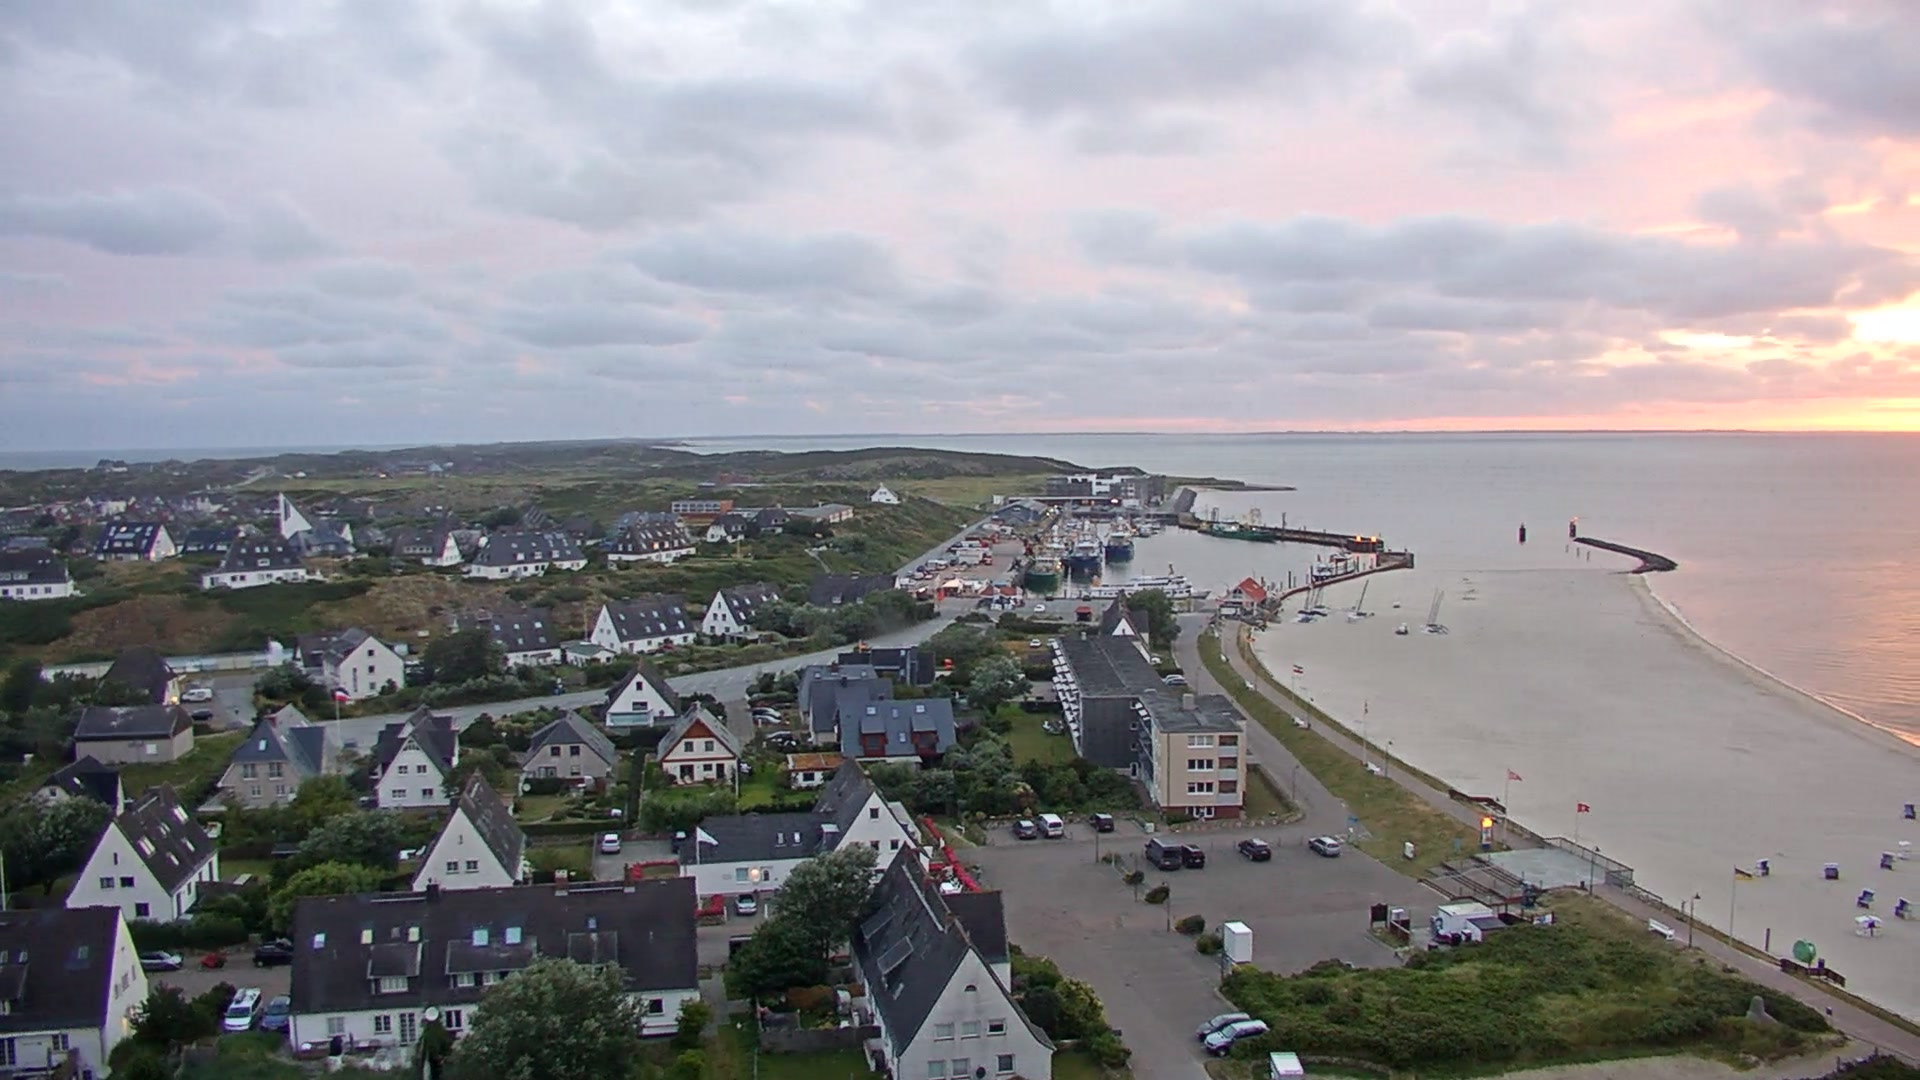land: (1204, 1018, 1269, 1058), (222, 986, 262, 1033), (1193, 1011, 1250, 1042), (1145, 836, 1182, 872), (260, 992, 291, 1033), (249, 943, 293, 967), (137, 949, 182, 971), (1237, 837, 1271, 861), (1308, 833, 1340, 856), (1036, 814, 1063, 839), (1182, 843, 1207, 869), (733, 891, 756, 915), (1088, 812, 1114, 832), (1011, 820, 1038, 840), (179, 687, 211, 702), (601, 832, 621, 853), (671, 831, 686, 855), (752, 705, 781, 717), (189, 707, 214, 720), (753, 715, 781, 727), (765, 731, 793, 741), (1160, 673, 1183, 682), (1168, 676, 1185, 684), (1033, 604, 1044, 613), (1029, 640, 1042, 647), (1044, 593, 1054, 601), (1083, 595, 1091, 603)
sea: (1084, 560, 1212, 599), (1211, 516, 1278, 541), (1309, 547, 1353, 582), (1025, 555, 1063, 592), (1068, 530, 1101, 568), (1102, 531, 1133, 559)
